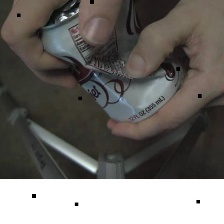can: (39, 0, 190, 130)
